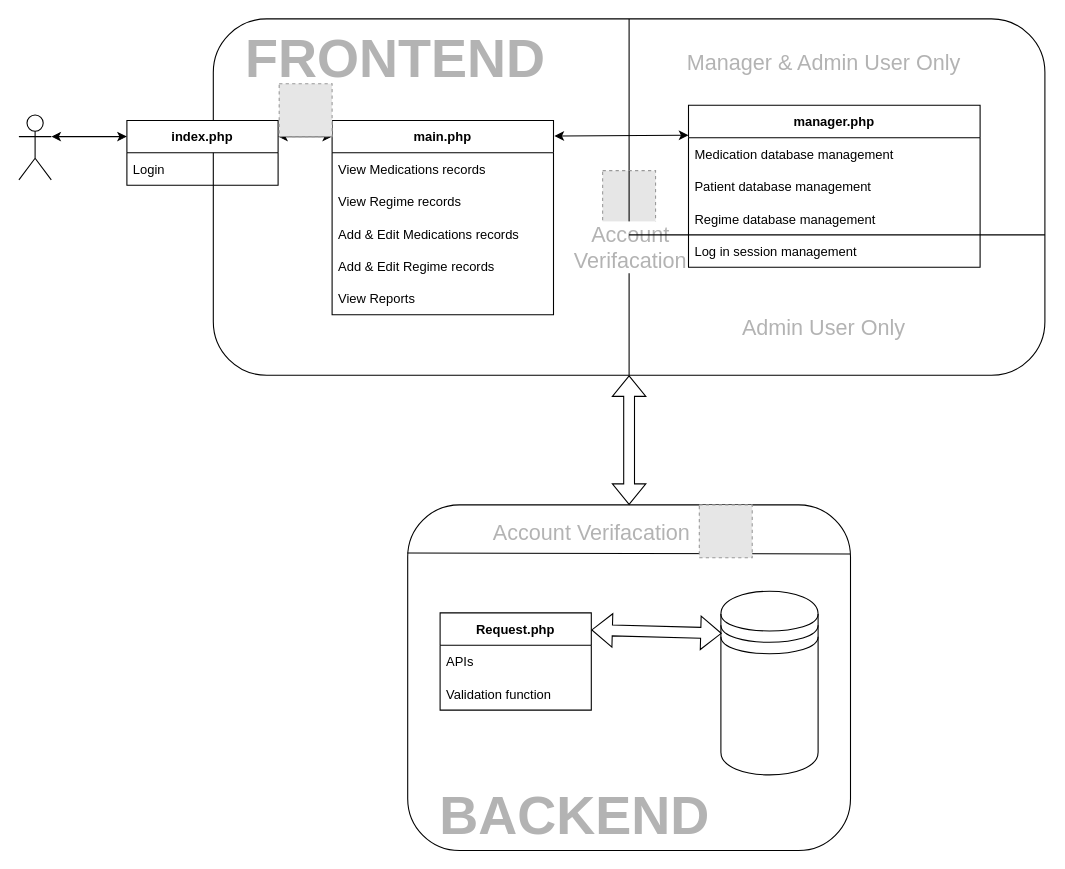
This 1065x869 diagram has some shape labels left out. Grey dashed boxes stand in for pictures. Each missing label, with the centre of its shape:
"MS Access Database" goes at [769,682].
"User" goes at [34,147].
